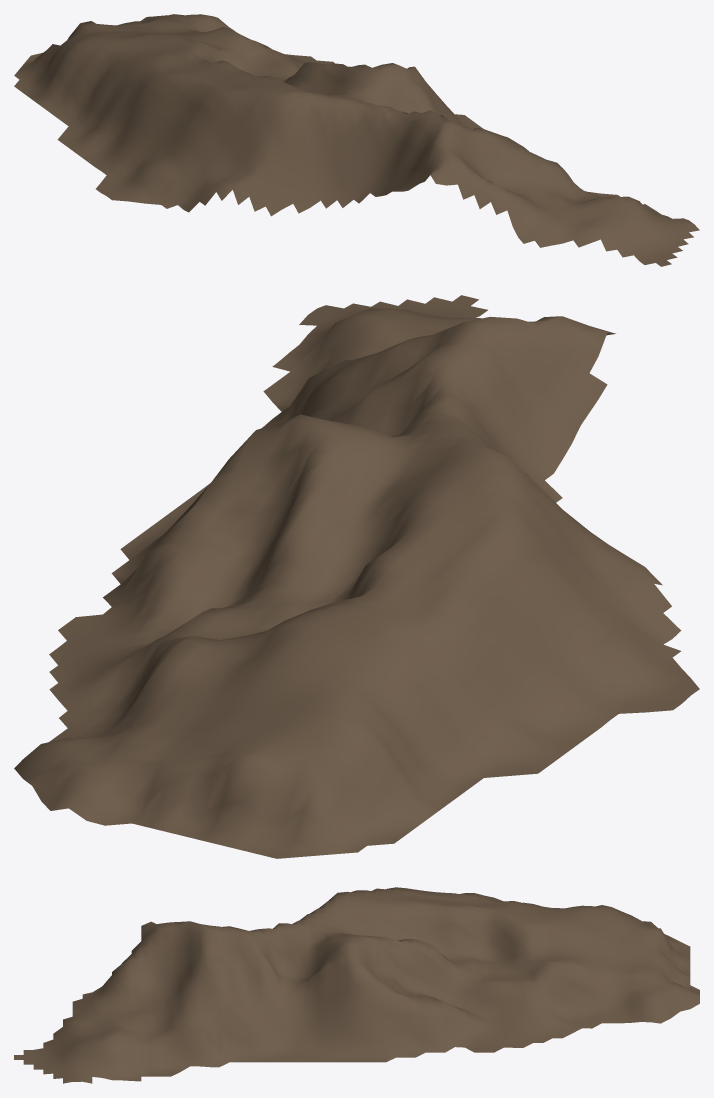
File: VannaIsland03.fbx
3 views of the same model, one above another, from view 1: azimuth 30°, elevation 25°; view 2: azimuth 150°, elevation 25°; view 3: azimuth 270°, elevation 25° (orthographic). The views are drawn at different scales.
Visible parts, largest first — view 1: Vanna03Normalized; view 2: Vanna03Normalized; view 3: Vanna03Normalized.
Part boxes in pixels (x1,y1,x2,y2): Vanna03Normalized: (14,14,699,266); Vanna03Normalized: (14,295,699,858); Vanna03Normalized: (14,887,699,1083).
Size of the model in its own units: 8635 by 1923 by 14020.
